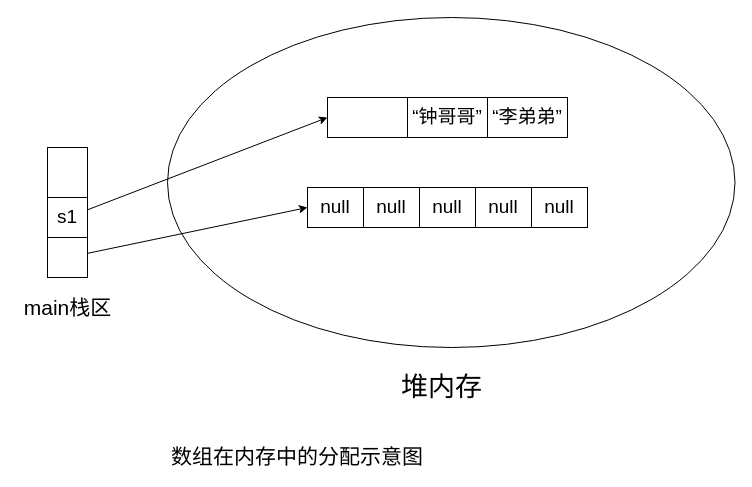
This 752x487 diagram has some shape labels left out. Each missing label, with the centre of its shape:
"s2" goes at (x=67, y=257).
"“王姐姐”" goes at (x=367, y=117).
